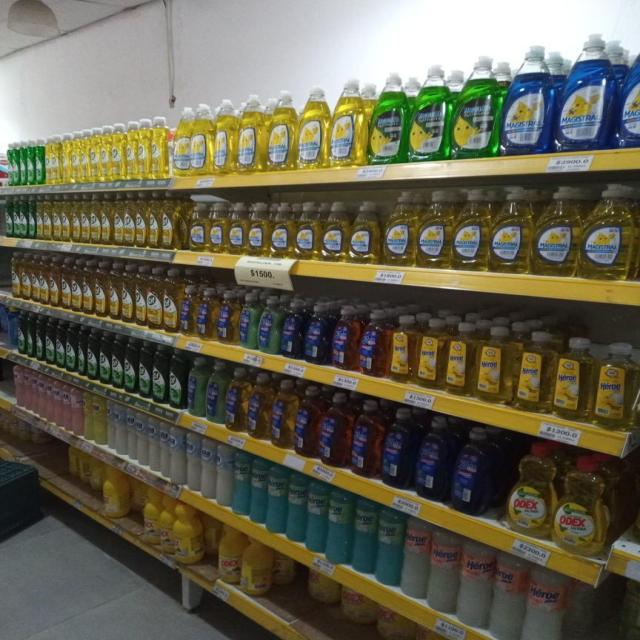cif_conc_bot_amarilla: (147, 266, 162, 330), (134, 264, 146, 326), (90, 193, 101, 244), (71, 193, 80, 243)
heroe: (523, 564, 567, 640), (458, 540, 491, 628), (428, 526, 458, 614), (402, 516, 428, 601), (376, 506, 402, 587)
magistral_con_amarillo: (582, 182, 634, 281), (534, 185, 580, 277), (492, 185, 532, 274), (330, 76, 367, 168), (453, 188, 490, 272), (418, 189, 452, 269), (298, 85, 329, 171), (382, 191, 417, 267), (267, 88, 296, 172), (238, 93, 266, 174), (350, 200, 380, 264), (321, 200, 349, 263), (214, 97, 236, 175), (295, 200, 320, 260), (270, 201, 294, 259), (247, 201, 269, 257), (188, 198, 207, 252), (208, 201, 227, 254), (228, 201, 246, 256)
magistral_con_azul: (558, 27, 616, 152), (504, 39, 554, 155), (619, 23, 640, 148)
zorro: (258, 295, 280, 354), (218, 290, 238, 344), (196, 287, 216, 341), (239, 293, 258, 349)
